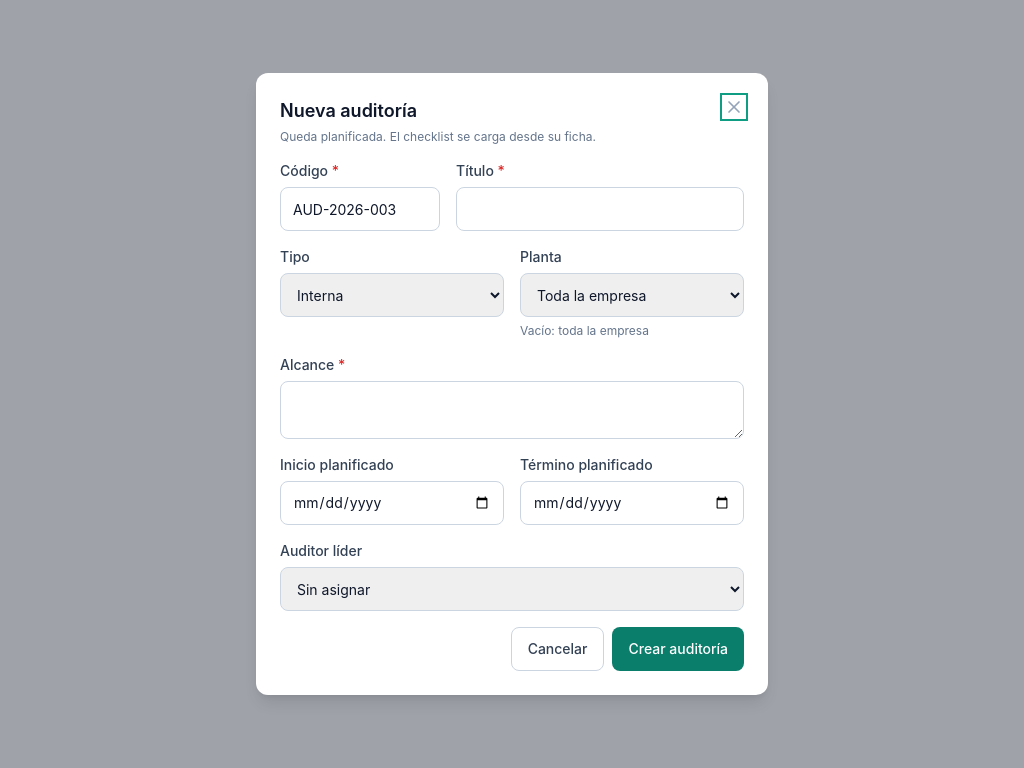
Test: crear una auditoría › un código repetido se dice con el motivo y el formulario queda
The width and height of the screenshot is (1024, 768).
In the field labelled "Título *": (600,209) [456, 187, 744, 231], type "Auditoría de residuos"
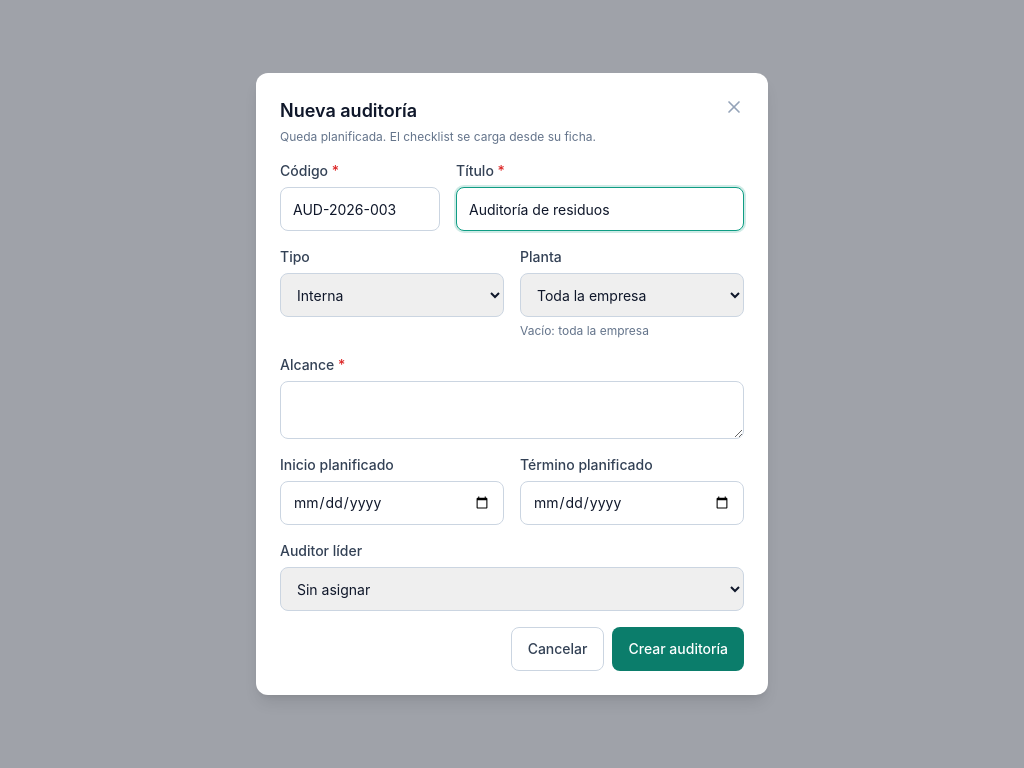
In the text box labelled "Alcance *": (512,410) [280, 381, 744, 439], type "Residuos peligrosos"
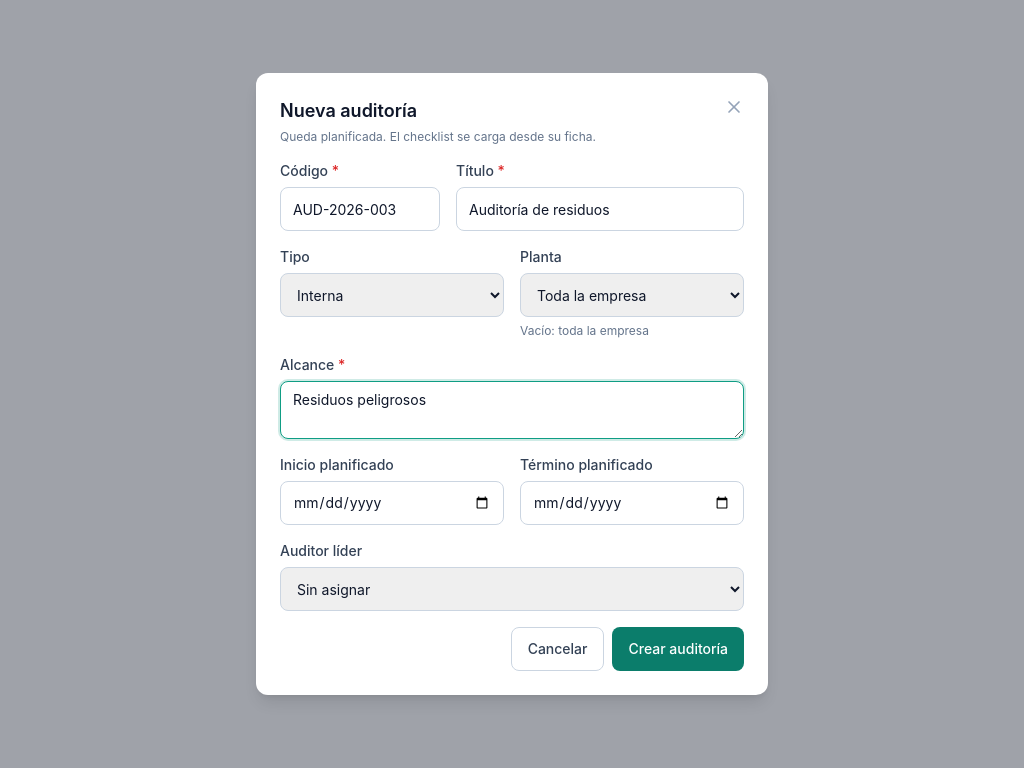
Click the button "Crear auditoría": (678,649) [612, 627, 744, 671]
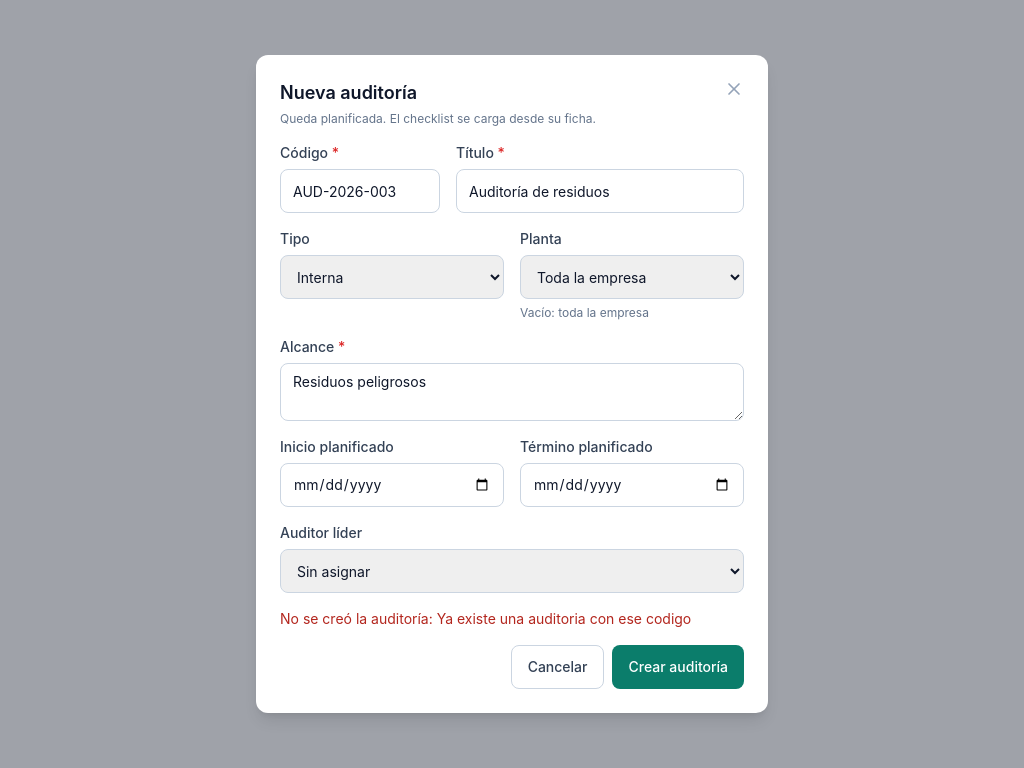
Expected: the message shows "No se creó la auditoría", [280, 610, 691, 627]
